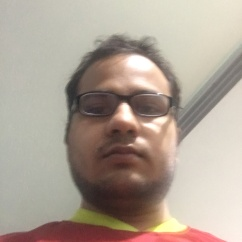glasses: (69, 92, 179, 116)
